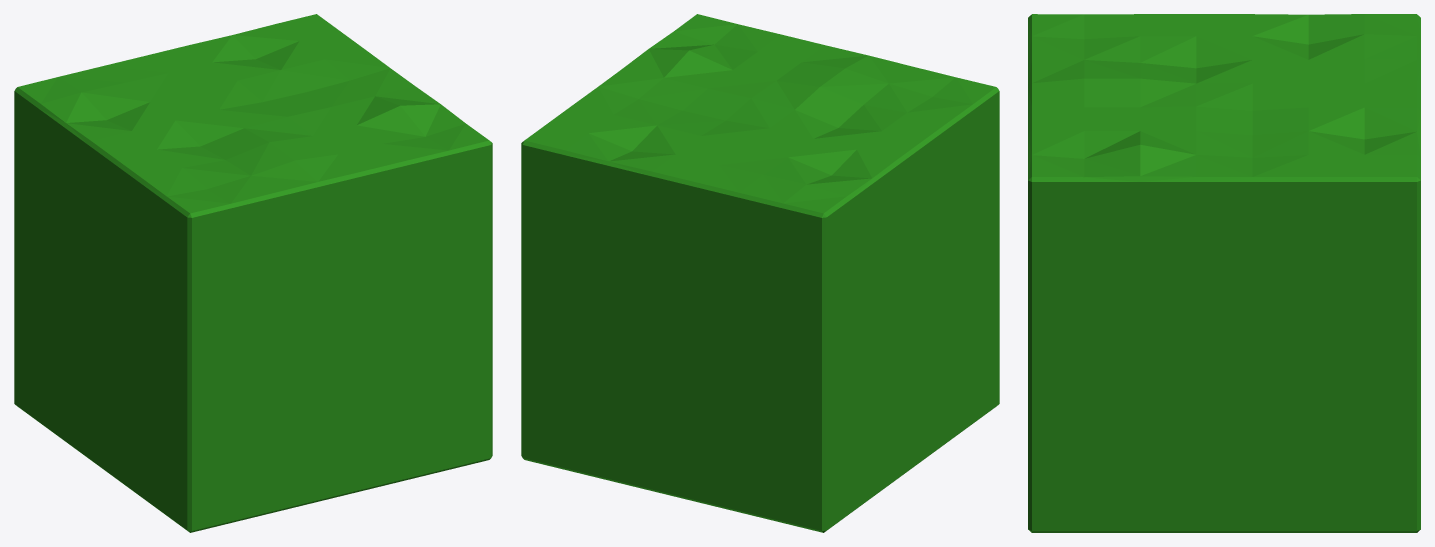
The model's file is floor4.obj.
The picture shows the model from 3 angles, left to right: view 1: azimuth 30°, elevation 25°; view 2: azimuth 150°, elevation 25°; view 3: azimuth 270°, elevation 25°; orthographic projection. The views are drawn at different scales.
Parts seen in each view (by area): view 1: Floor4; view 2: Floor4; view 3: Floor4.
Part boxes in pixels (<box>): Floor4: <box>14,14,492,532</box>; Floor4: <box>521,14,999,532</box>; Floor4: <box>1028,14,1420,532</box>.
Size of the model in its own units: 2 by 2.06 by 2.
